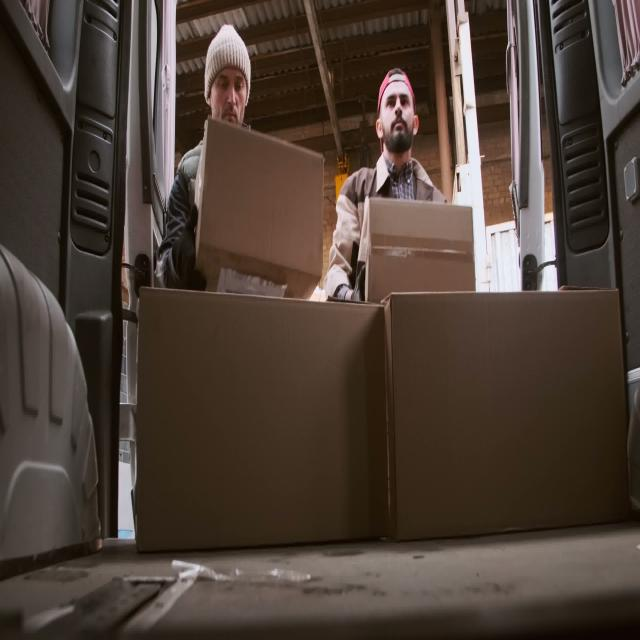counting-the-number-of-boxes: (136, 286, 389, 559), (384, 291, 632, 546), (194, 118, 323, 300), (367, 196, 477, 302)
